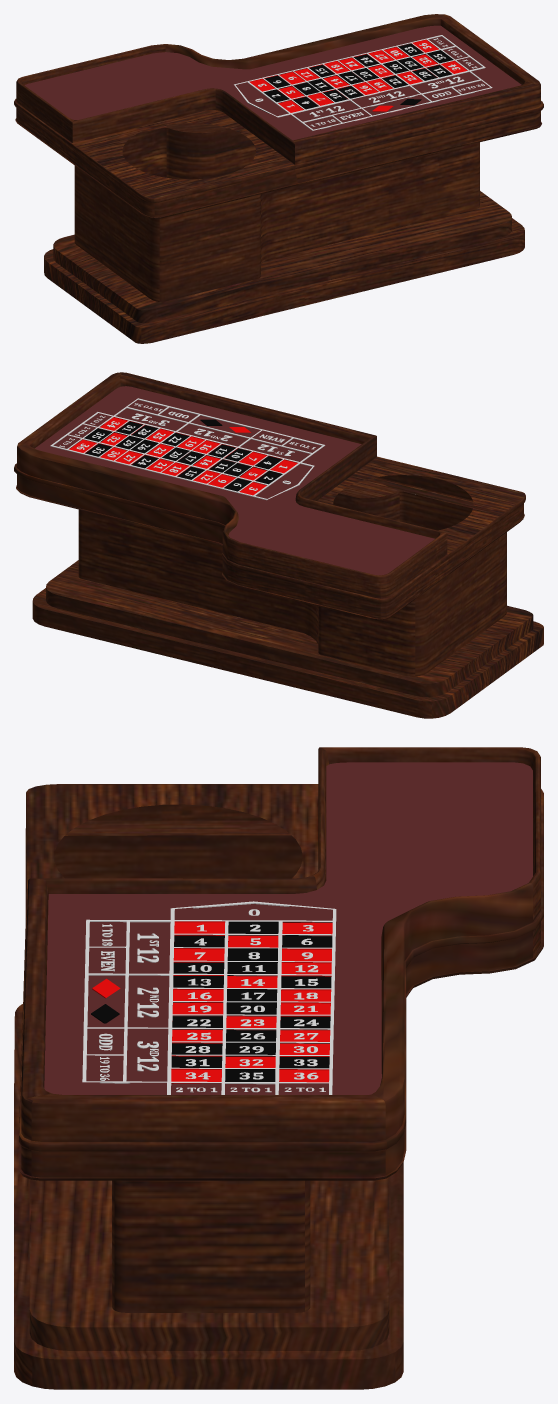
File: tebal.fbx
The picture shows the model from 3 angles, top to bottom: view 1: azimuth 30°, elevation 25°; view 2: azimuth 150°, elevation 25°; view 3: azimuth 270°, elevation 25°; orthographic projection. The views are drawn at different scales.
Visible parts, largest first — view 1: table; view 2: table; view 3: table.
Boxes of the visible parts, bbox=[...] form: table: bbox=[14, 14, 543, 343]; table: bbox=[14, 372, 543, 718]; table: bbox=[14, 747, 543, 1389].
Bounding box in the file's own units: 733 × 274 × 441.
